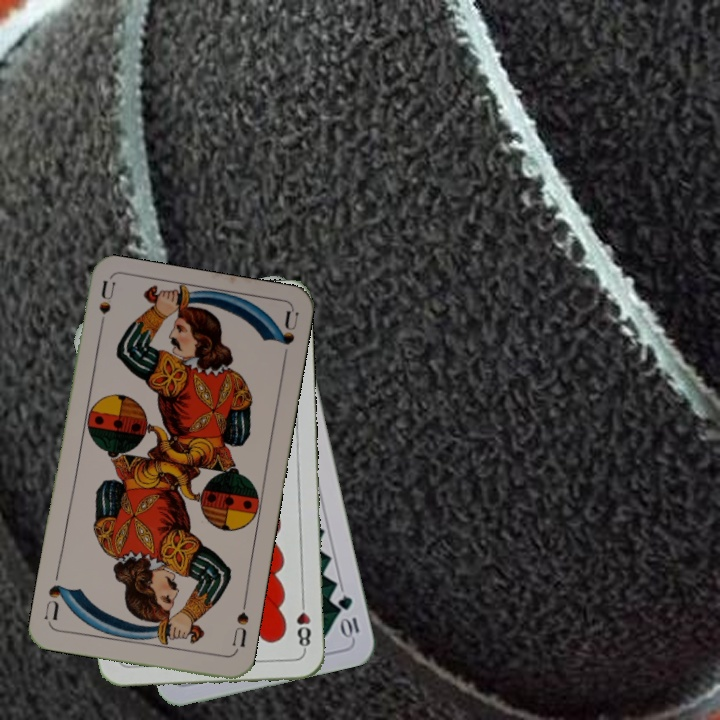G10: (334, 591, 362, 640)
H8: (293, 594, 313, 653)
SU: (94, 278, 118, 338), (228, 596, 252, 655)
